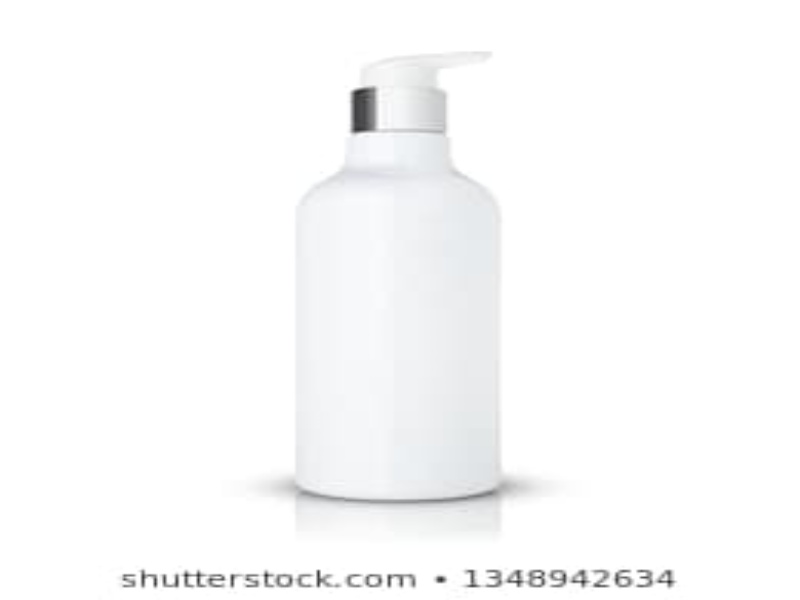shampoo-bottle: (281, 46, 531, 502)
